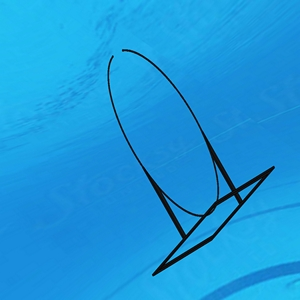circle: (106, 47, 277, 277)
